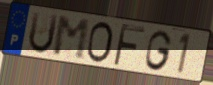1: (176, 33, 191, 77)
F: (111, 22, 147, 68)
G: (144, 29, 174, 72)
M: (51, 15, 92, 62)
O: (85, 20, 115, 65)
U: (27, 10, 61, 56)
